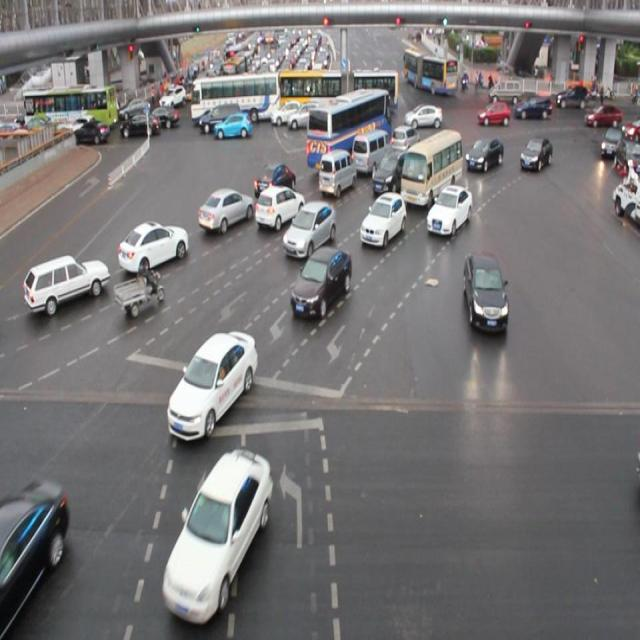car: (161, 448, 272, 620), (1, 474, 70, 640), (166, 329, 260, 446), (23, 253, 109, 317), (290, 249, 353, 319), (117, 220, 189, 275), (462, 245, 507, 333), (282, 198, 336, 255), (196, 185, 254, 233), (359, 190, 406, 247), (425, 184, 474, 234), (257, 183, 303, 231), (254, 162, 296, 202), (370, 148, 408, 191), (465, 136, 502, 175), (520, 135, 552, 173), (390, 124, 419, 160)
truck: (403, 128, 462, 204), (351, 130, 394, 177), (318, 150, 356, 196)
van: (306, 90, 392, 174)
